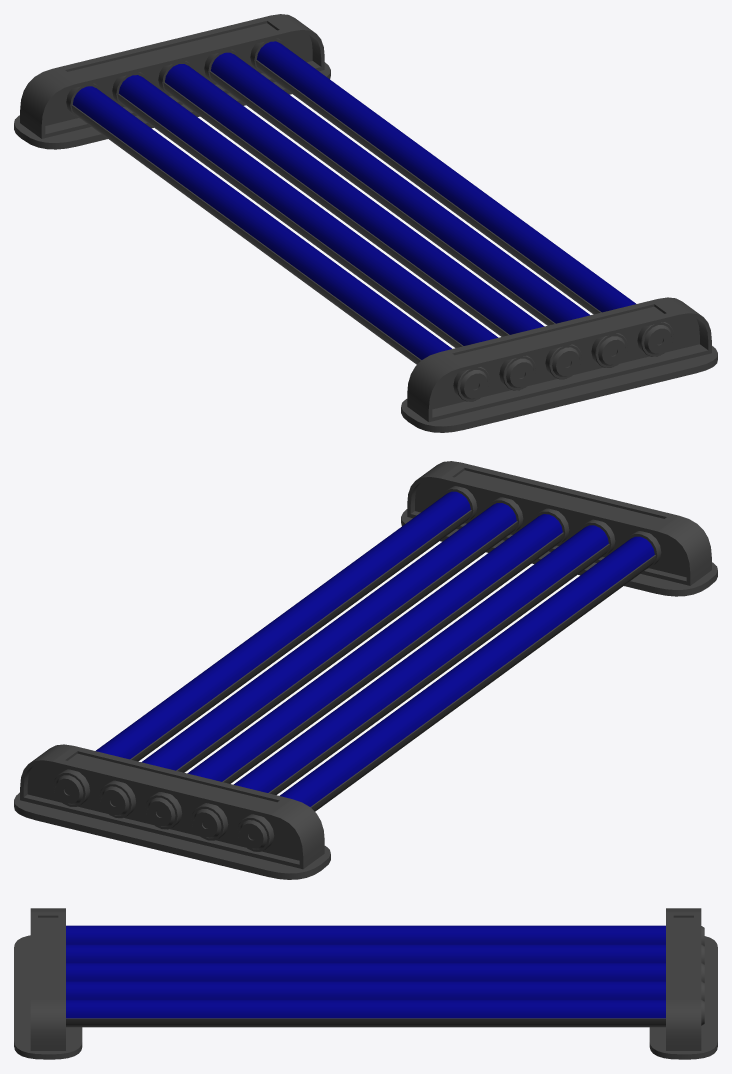
Rendered from SM_Light_lamps_lamp_2.fbx.
3 renders of one model, top to bottom at view 1: azimuth 30°, elevation 25°; view 2: azimuth 150°, elevation 25°; view 3: azimuth 270°, elevation 25°, orthographic. The views are drawn at different scales.
Parts seen in each view (by area): view 1: SM_Light_lamps_lamp_2; view 2: SM_Light_lamps_lamp_2; view 3: SM_Light_lamps_lamp_2.
Part boxes in pixels (x1,y1,x2,y2): SM_Light_lamps_lamp_2: (14, 14, 717, 432); SM_Light_lamps_lamp_2: (14, 461, 717, 879); SM_Light_lamps_lamp_2: (14, 908, 717, 1059).
Size of the model in its own units: 42.39 by 7.15 by 105.
